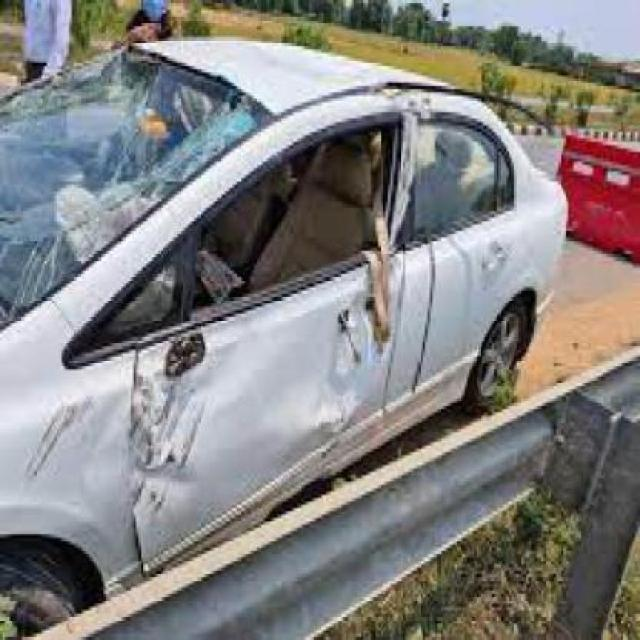Front-Windscreen-Damage: (2, 44, 257, 246)
doorouter-scratch: (129, 330, 241, 576), (296, 268, 401, 470)
